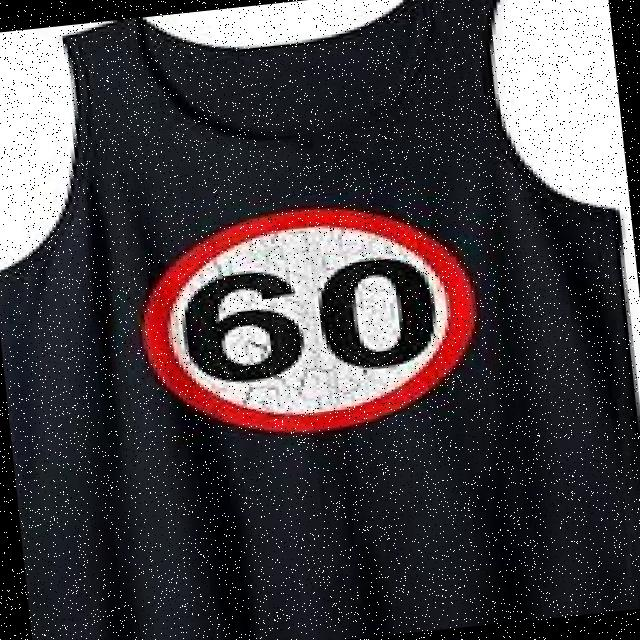speed_limit_60: (108, 191, 494, 454)
